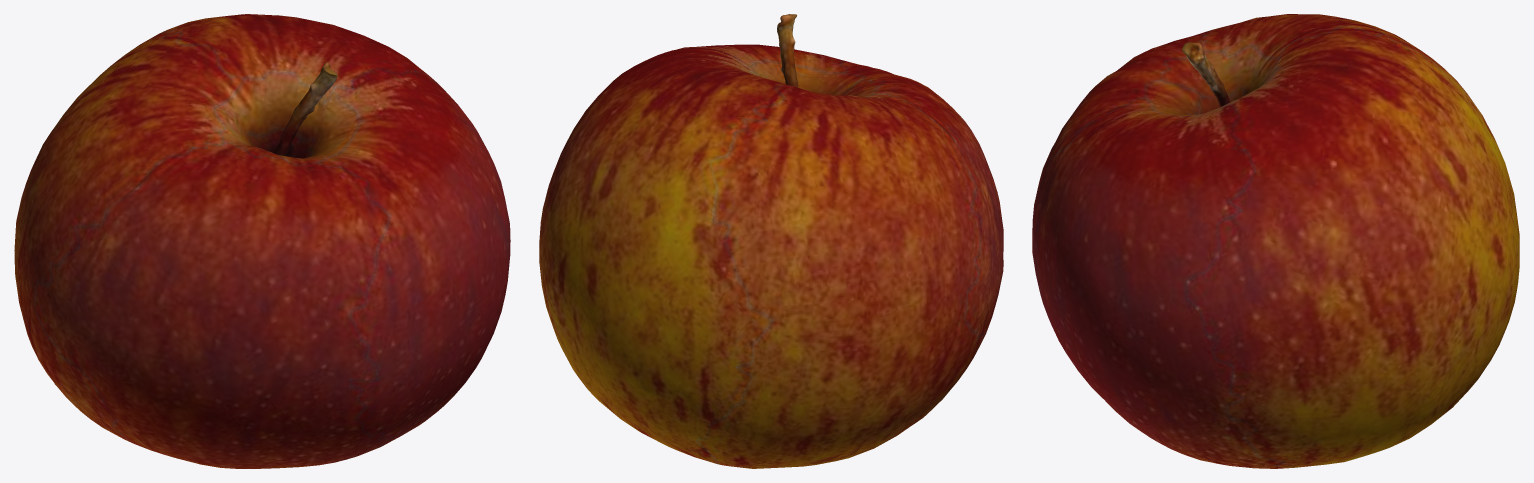
Rendered from food_apple_01.glb.
The picture shows the model from 3 angles, left to right: view 1: azimuth 30°, elevation 25°; view 2: azimuth 150°, elevation 25°; view 3: azimuth 270°, elevation 25°; orthographic projection. The views are drawn at different scales.
Parts seen in each view (by area): view 1: food_apple_01; view 2: food_apple_01; view 3: food_apple_01.
Part boxes in pixels (x1,y1,x2,y2): food_apple_01: (14, 14, 510, 468); food_apple_01: (539, 14, 1003, 468); food_apple_01: (1032, 14, 1519, 468).
Size of the model in its own units: 0.0976 by 0.0854 by 0.0959.
1 material, 1 textured.
